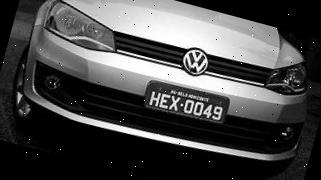placa_antiga: (144, 80, 228, 123)
